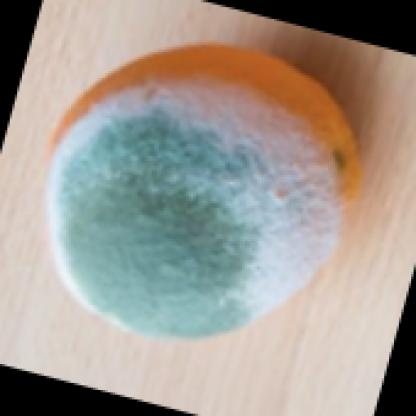rotten: (46, 44, 363, 344)
